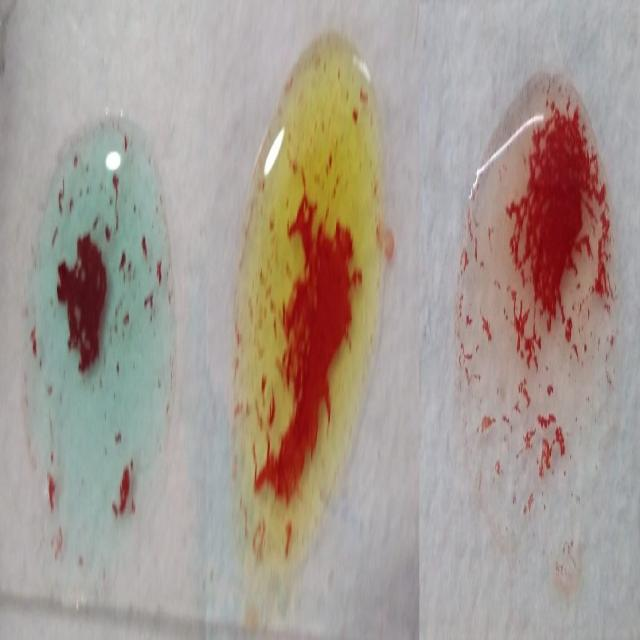A: (25, 113, 177, 582)
B: (241, 35, 377, 581)
D: (462, 58, 619, 547)
